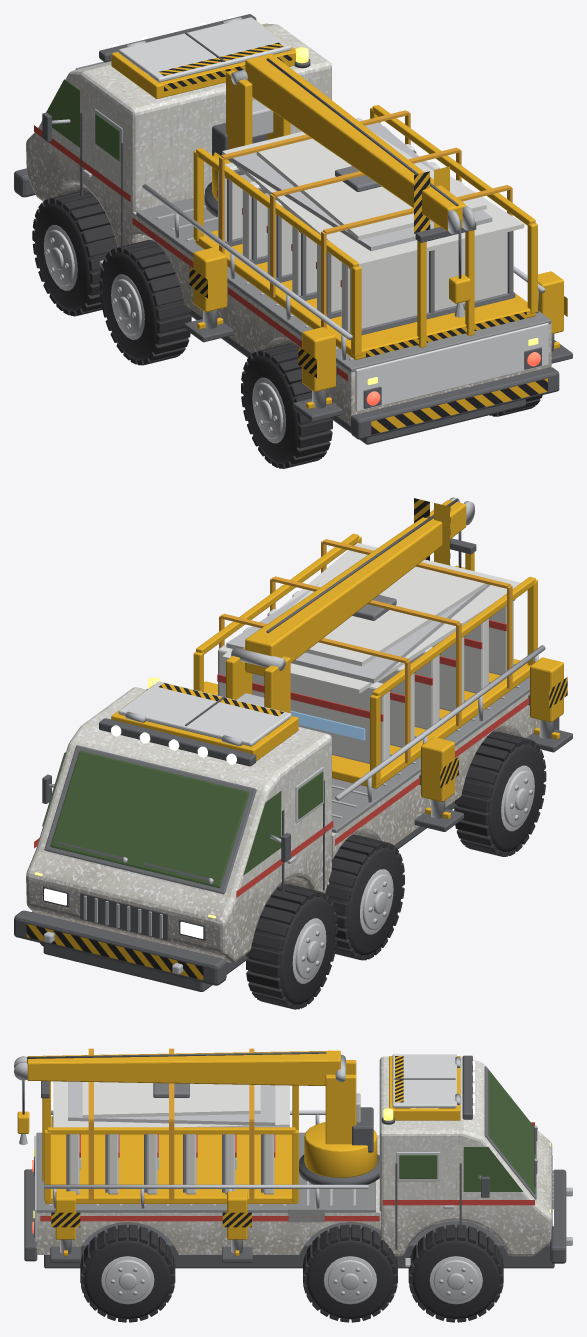
The model's file is construction_rover.glb.
3 views of the same model, one above another, from view 1: azimuth 30°, elevation 25°; view 2: azimuth 150°, elevation 25°; view 3: azimuth 270°, elevation 25° (orthographic). The views are drawn at different scales.
Visible parts, largest first — view 1: BodyMesh, PanelsMesh, BoomMesh, WheelMLMesh, WheelFLMesh, WheelRLMesh, DockLidMesh, CraneMesh, Jack2Mesh, Jack0Mesh, HookMesh; view 2: BodyMesh, PanelsMesh, BoomMesh, WheelFLMesh, WheelRLMesh, WheelMLMesh, DockLidMesh, CraneMesh, Jack0Mesh, Jack2Mesh; view 3: BodyMesh, PanelsMesh, BoomMesh, WheelFRMesh, WheelRRMesh, WheelMRMesh, CraneMesh, DockLidMesh, Jack1Mesh, Jack3Mesh, HookMesh.
Part boxes in pixels (left/top/right/bottom): BodyMesh: left=14, top=14, right=567, bottom=444; PanelsMesh: left=193, top=105, right=537, bottom=359; BoomMesh: left=231, top=54, right=474, bottom=234; WheelMLMesh: left=99, top=240, right=191, bottom=365; WheelFLMesh: left=32, top=191, right=117, bottom=316; WheelRLMesh: left=241, top=343, right=332, bottom=468; DockLidMesh: left=118, top=17, right=291, bottom=82; CraneMesh: left=204, top=70, right=290, bottom=216; Jack2Mesh: left=293, top=389, right=342, bottom=421; Jack0Mesh: left=184, top=310, right=233, bottom=342; HookMesh: left=449, top=220, right=470, bottom=317; BodyMesh: left=14, top=538, right=567, bottom=991; PanelsMesh: left=193, top=533, right=537, bottom=788; BoomMesh: left=231, top=497, right=474, bottom=676; WheelFLMesh: left=246, top=884, right=337, bottom=1009; WheelRLMesh: left=454, top=731, right=546, bottom=856; WheelMLMesh: left=325, top=835, right=404, bottom=960; DockLidMesh: left=118, top=681, right=291, bottom=746; CraneMesh: left=226, top=647, right=290, bottom=713; Jack0Mesh: left=414, top=799, right=463, bottom=831; Jack2Mesh: left=526, top=720, right=572, bottom=752; BodyMesh: left=24, top=1055, right=572, bottom=1268; PanelsMesh: left=44, top=1048, right=298, bottom=1203; BoomMesh: left=14, top=1050, right=345, bottom=1085; WheelFRMesh: left=408, top=1224, right=503, bottom=1322; WheelRRMesh: left=80, top=1224, right=175, bottom=1322; WheelMRMesh: left=303, top=1224, right=397, bottom=1322; CraneMesh: left=299, top=1060, right=379, bottom=1184; DockLidMesh: left=392, top=1054, right=460, bottom=1107; Jack1Mesh: left=222, top=1239, right=252, bottom=1262; Jack3Mesh: left=50, top=1239, right=80, bottom=1262; HookMesh: left=17, top=1080, right=29, bottom=1144.
Size of the model in its own units: 3.26 by 3.48 by 7.66.
Materials: 24 (2 with a texture image).
